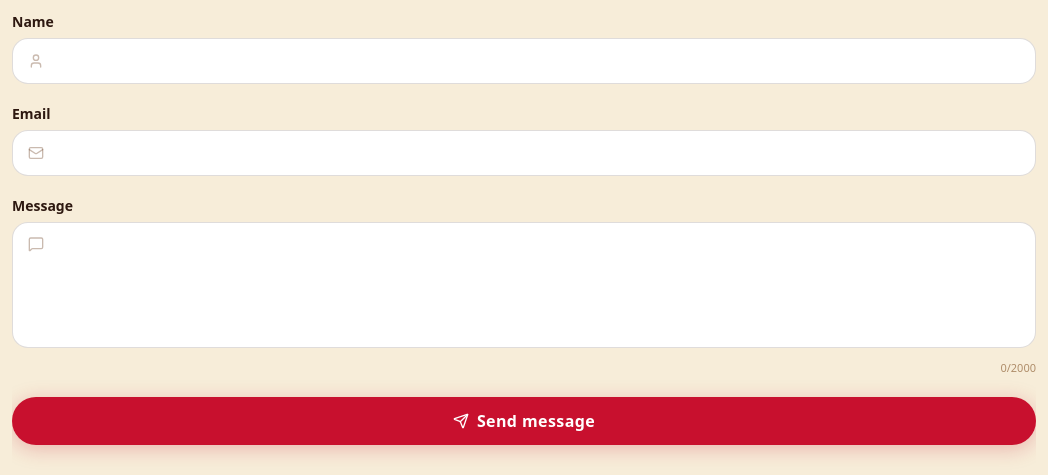
ContactForm › shows a live character count for the message field, capped by maxLength
Check: the text "0/2000" is shown, box [1000,360,1036,375]
Type "Hello there." into the text box labelled "Message" at (524, 285), box [12,222,1036,348]
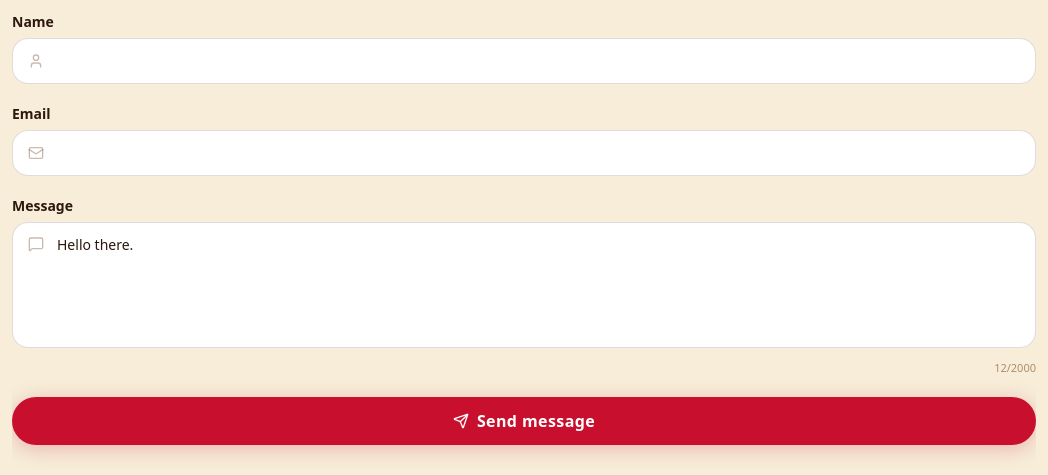
Check: the text "12/2000" is shown, box [994,360,1036,375]
